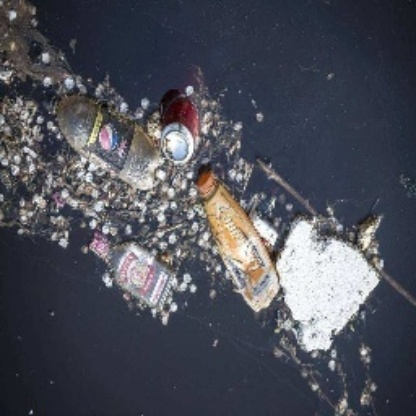bottle: (193, 169, 279, 313), (48, 90, 163, 186), (87, 228, 179, 309)
plastic-garbage: (286, 216, 380, 353)
